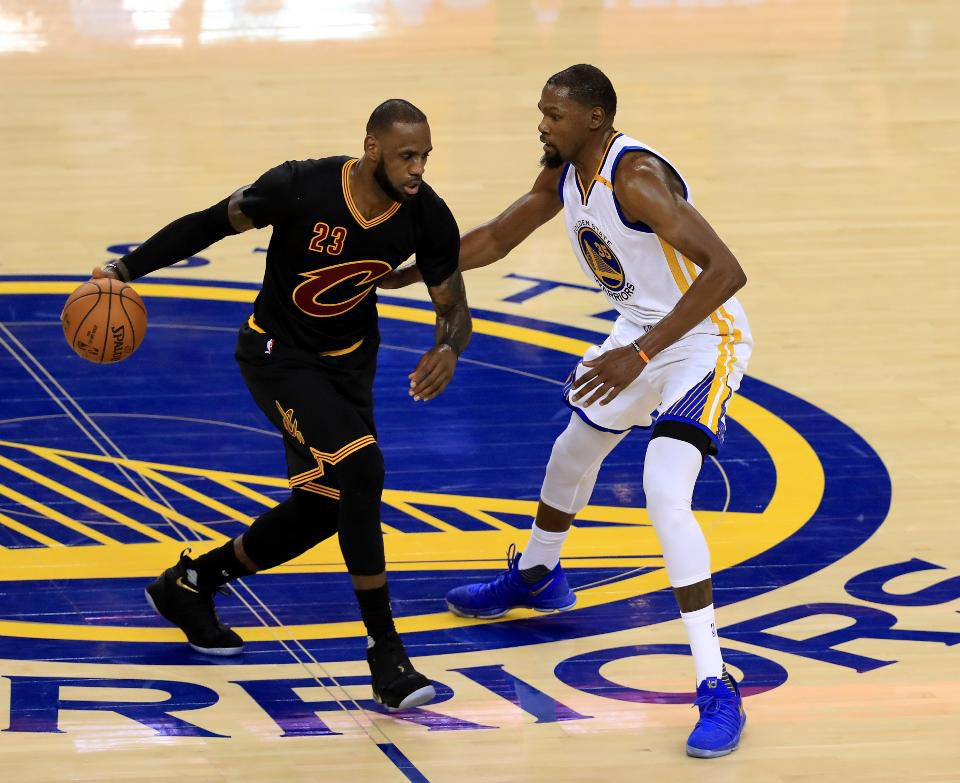basketball: (48, 276, 158, 369)
basketball player: (158, 96, 471, 725), (486, 65, 764, 765)
